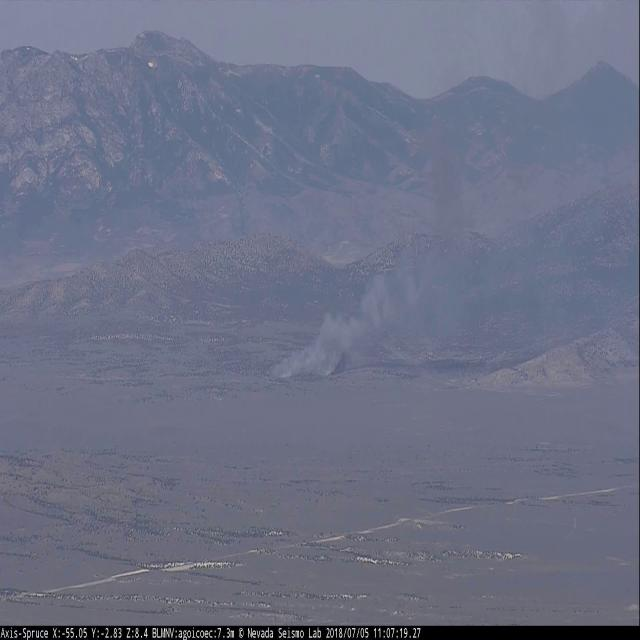smoke: (264, 70, 480, 394)
